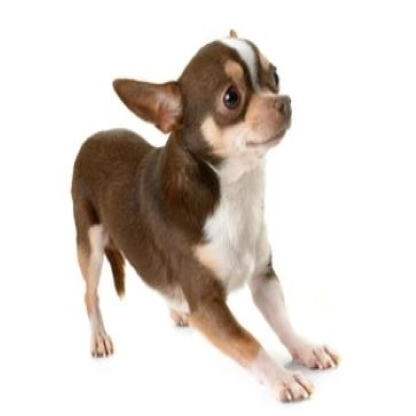chihuahua: (69, 27, 344, 407)
